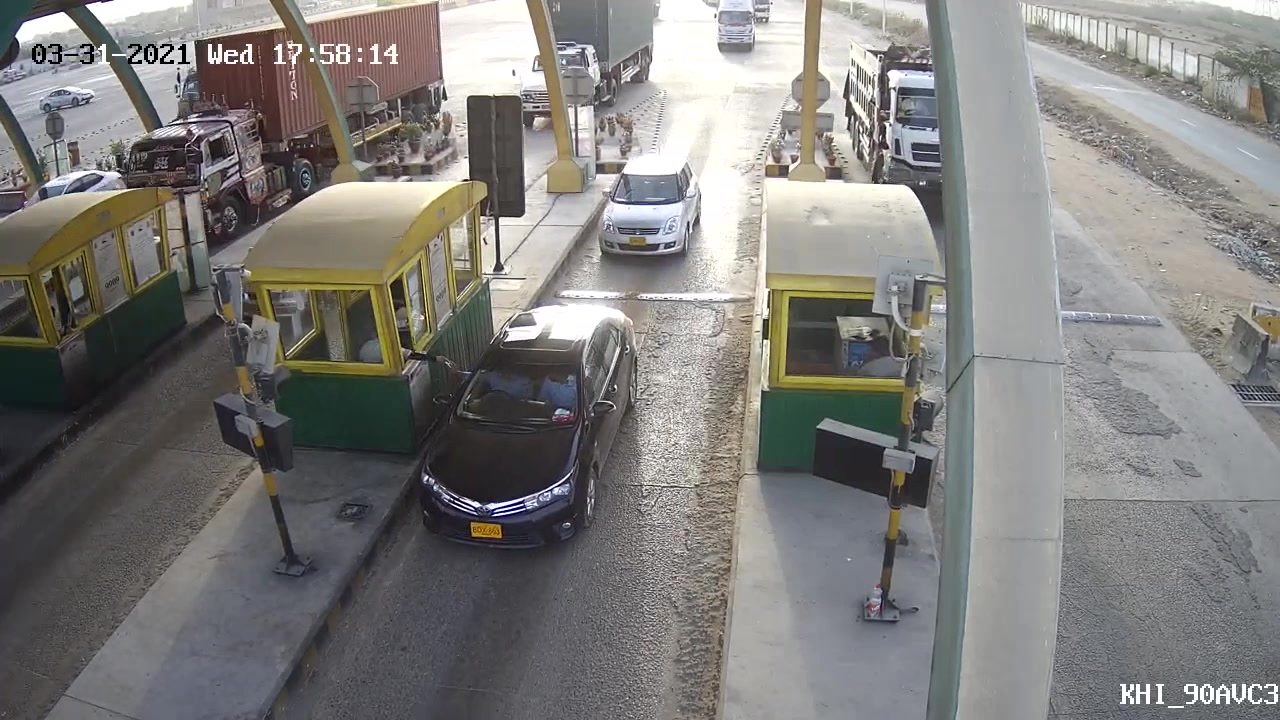F1: (404, 297, 651, 555), (589, 151, 705, 260)
